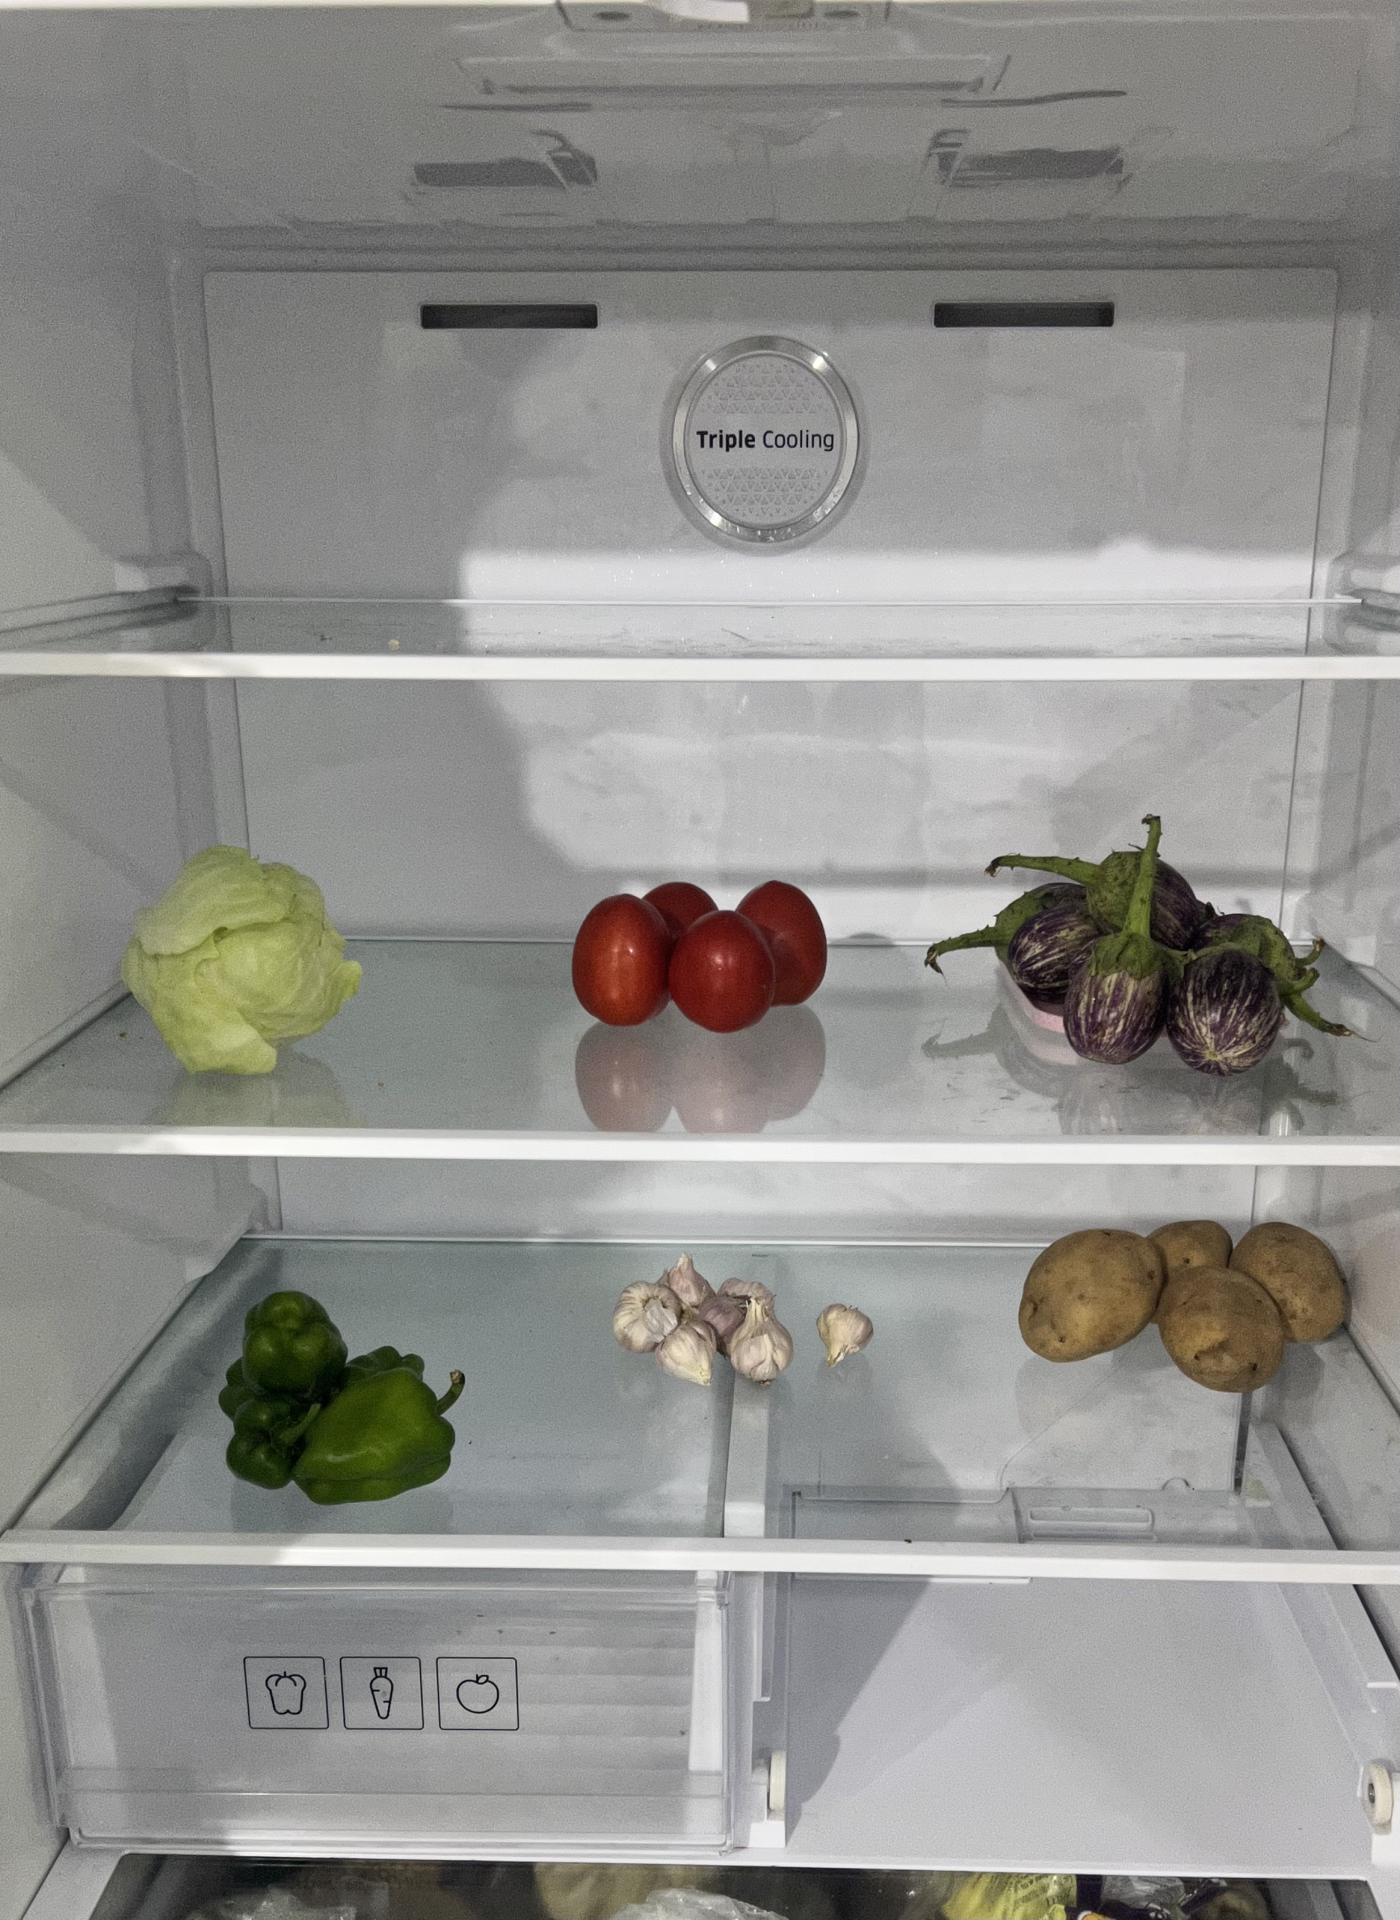bread: (72, 1844, 489, 1908)
brinjal: (965, 824, 1314, 1076)
cabbage: (116, 844, 358, 1072)
capsicum: (200, 1283, 450, 1491)
garlic: (607, 1260, 869, 1389)
potato: (1021, 1218, 1354, 1391)
tomato: (573, 872, 830, 1027)
